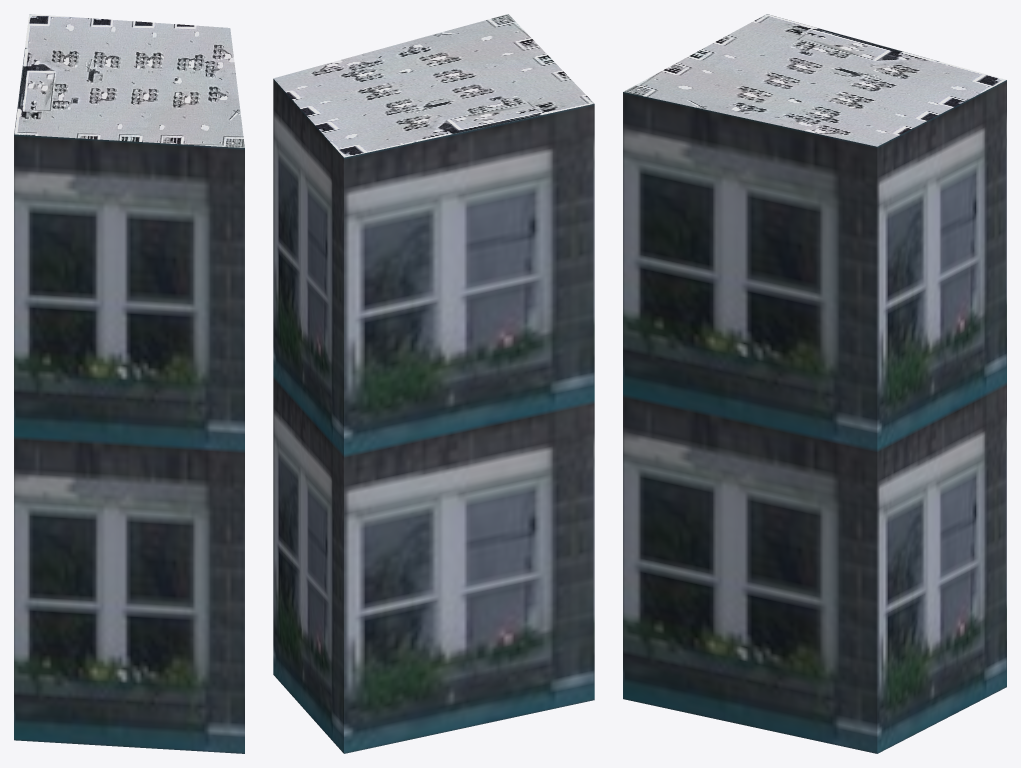
Rendered from ResTex__1089.fbx.
3 renders of one model, left to right at view 1: azimuth 30°, elevation 25°; view 2: azimuth 150°, elevation 25°; view 3: azimuth 270°, elevation 25°, orthographic.
Parts seen in each view (by area): view 1: CityEngineMaterial_11_m, CityEngineMaterial_2_m; view 2: CityEngineMaterial_11_m, CityEngineMaterial_2_m; view 3: CityEngineMaterial_11_m, CityEngineMaterial_2_m.
Boxes of the visible parts, bbox=[...] form: CityEngineMaterial_11_m: bbox=[14, 134, 244, 753]; CityEngineMaterial_2_m: bbox=[14, 14, 244, 147]; CityEngineMaterial_11_m: bbox=[273, 79, 594, 753]; CityEngineMaterial_2_m: bbox=[273, 14, 594, 157]; CityEngineMaterial_11_m: bbox=[623, 80, 1006, 753]; CityEngineMaterial_2_m: bbox=[623, 14, 1006, 146].
Bounding box in the file's own units: 2.81 × 6 × 3.44.
2 materials, 2 textured.
